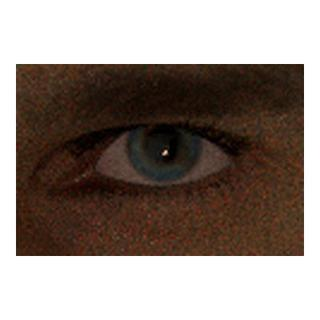pupil: (147, 127, 181, 161)
